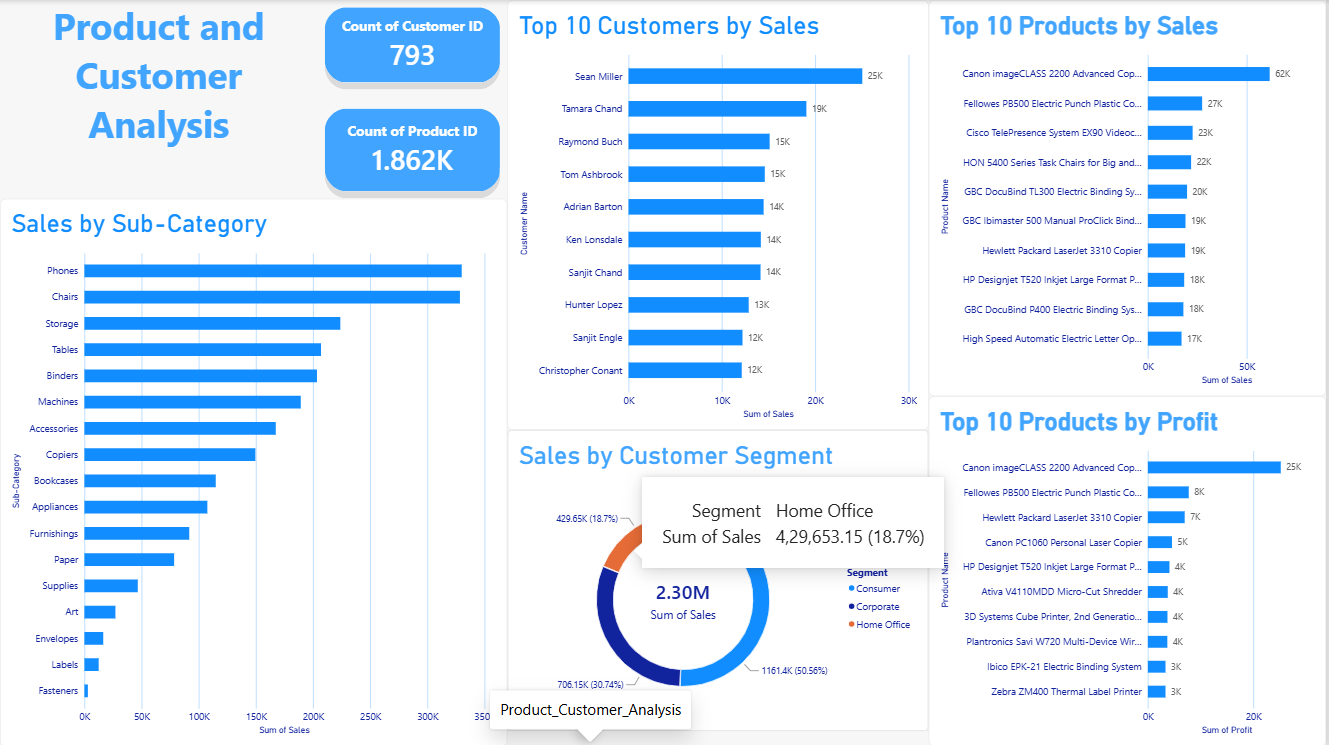

The page's visual inventory and layout, read from the dashboard file:
{"tool":"powerbi","page":{"name":"Product_Customer_Analysis","canvas":[1920,1080],"ordinal":2},"visuals":[{"type":"cardVisual","fields":{"Data":["Count(Superstore.Customer ID)"]},"box":[459.7,0,275.1,130.3],"z":0},{"type":"cardVisual","fields":{"Data":["Count(Superstore.Product ID)"]},"box":[459.7,146.6,275.1,141.2],"z":1},{"type":"barChart","title":"Top 10 Products by Sales","fields":{"Category":["Superstore.Product Name"],"Y":["Sum(Superstore.Sales)"]},"box":[1344.6,0,575.5,573.7],"z":2},{"type":"barChart","title":"Top 10 Products by Profit","fields":{"Category":["Superstore.Product Name"],"Y":["Sum(Superstore.Profit)"]},"box":[1344.6,573.7,575.5,506.7],"z":3},{"type":"donutChart","title":"Sales by Customer Segment","fields":{"Category":["Superstore.Segment"],"Y":["Sum(Superstore.Sales)"]},"box":[734.7,622.5,609.9,436.1],"z":4},{"type":"barChart","title":"Top 10 Customers by Sales","fields":{"Category":["Superstore.Customer Name"],"Y":["Sum(Superstore.Sales)"]},"box":[734.7,0,609.9,622.5],"z":5},{"type":"barChart","title":"Sales by Sub-Category","fields":{"Category":["Superstore.Sub-Category"],"Y":["Sum(Superstore.Sales)"]},"box":[0,287.7,734.7,792.6],"z":6},{"type":"textbox","box":[0,0,459.7,217.2],"z":7}]}

Visuals, with their boxes in screenshot pixels (x1, y1, x2, y2), scaled from the page's 1920x1080 canvas onto the 1329x745 screenshot:
cardVisual - Count(Superstore.Customer ID): pyautogui.locateOnScreen(318, 0, 509, 90)
cardVisual - Count(Superstore.Product ID): pyautogui.locateOnScreen(318, 101, 509, 199)
"Top 10 Products by Sales" barChart: pyautogui.locateOnScreen(931, 0, 1328, 396)
"Top 10 Products by Profit" barChart: pyautogui.locateOnScreen(931, 396, 1328, 744)
"Sales by Customer Segment" donutChart: pyautogui.locateOnScreen(509, 429, 931, 730)
"Top 10 Customers by Sales" barChart: pyautogui.locateOnScreen(509, 0, 931, 429)
"Sales by Sub-Category" barChart: pyautogui.locateOnScreen(0, 198, 509, 744)
textbox: pyautogui.locateOnScreen(0, 0, 318, 150)
